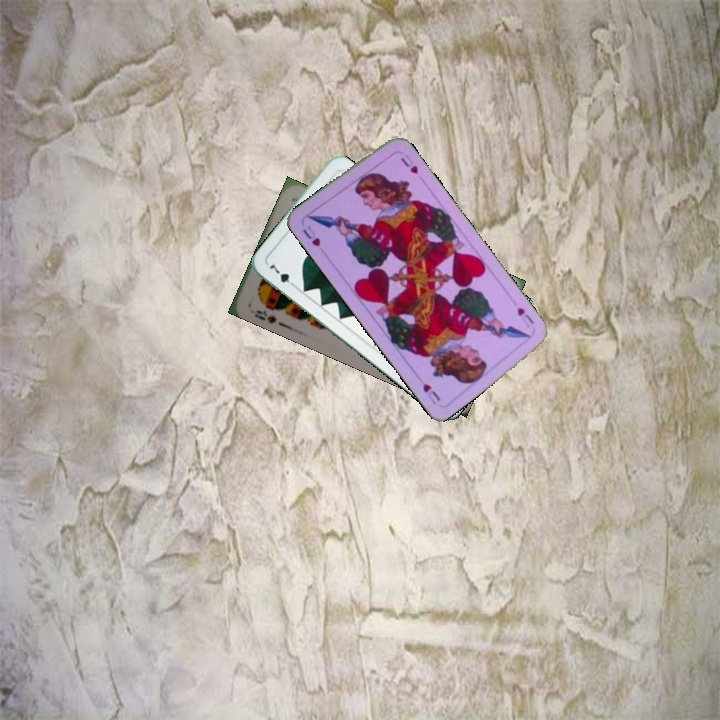G7: (265, 258, 299, 290)
HU: (298, 221, 323, 249), (513, 303, 536, 330)
S8: (250, 306, 279, 326)
